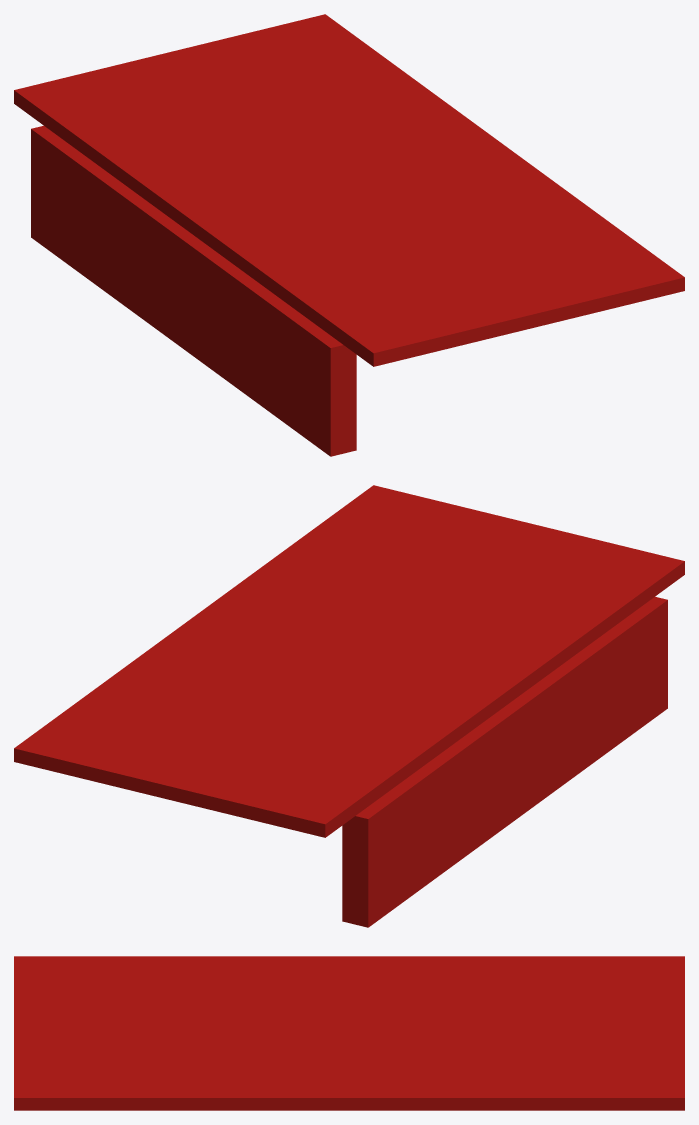
File: convertible_boot_lid.glb
The picture shows the model from 3 angles, top to bottom: view 1: azimuth 30°, elevation 25°; view 2: azimuth 150°, elevation 25°; view 3: azimuth 270°, elevation 25°; orthographic projection. The views are drawn at different scales.
Parts seen in each view (by area): view 1: body:compound; view 2: body:compound; view 3: body:compound.
Part boxes in pixels (box(x1,y1,x2,y2)): body:compound: box(14, 14, 684, 456); body:compound: box(14, 485, 684, 927); body:compound: box(14, 956, 684, 1110).
Bounding box in the file's own units: 0.7812 × 0.2812 × 1.5.
